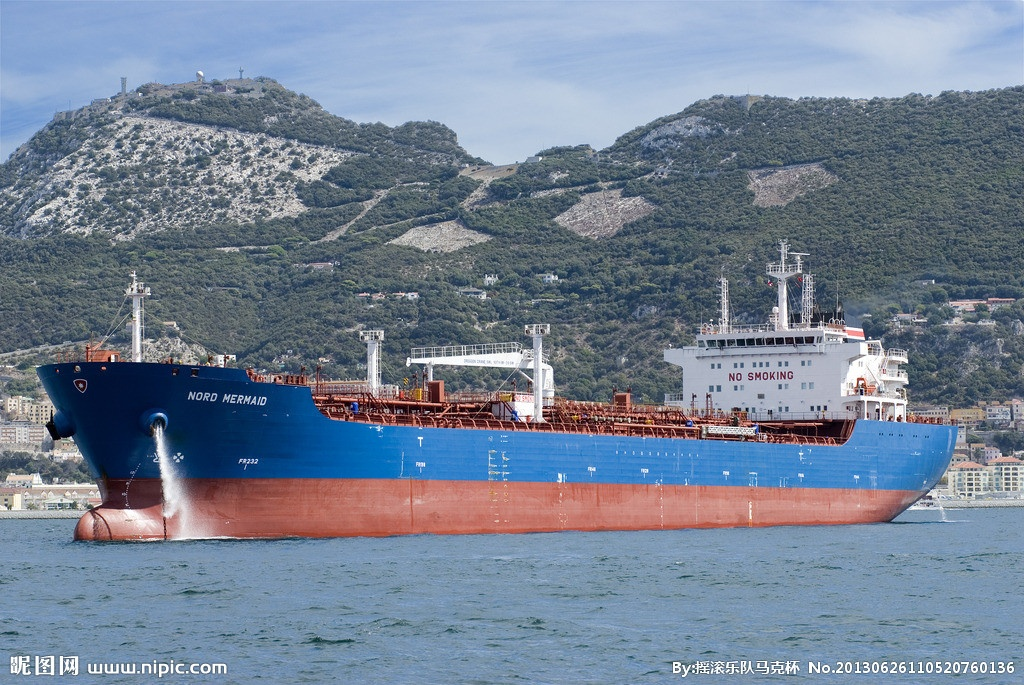Cargoship: (21, 234, 968, 550)
